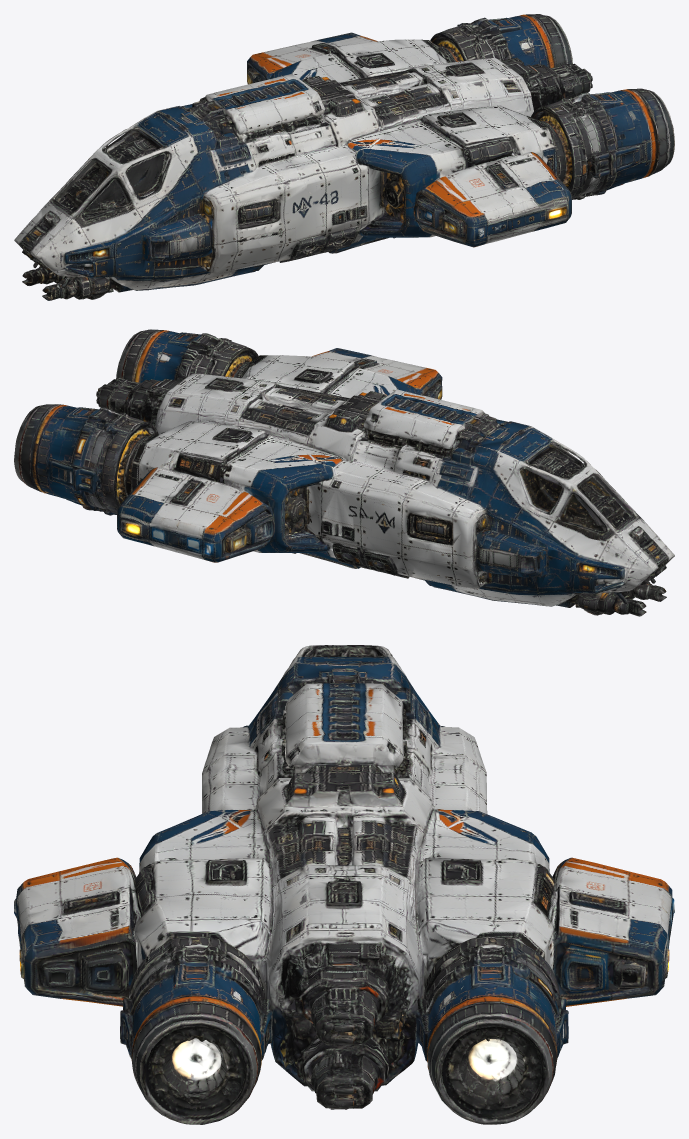
The model's file is ship4.glb.
3 renders of one model, top to bottom at view 1: azimuth 30°, elevation 25°; view 2: azimuth 150°, elevation 25°; view 3: azimuth 270°, elevation 25°, orthographic. The views are drawn at different scales.
Bounding box in the file's own units: 1.9 × 0.5137 × 1.29.
1 material, 1 textured.
